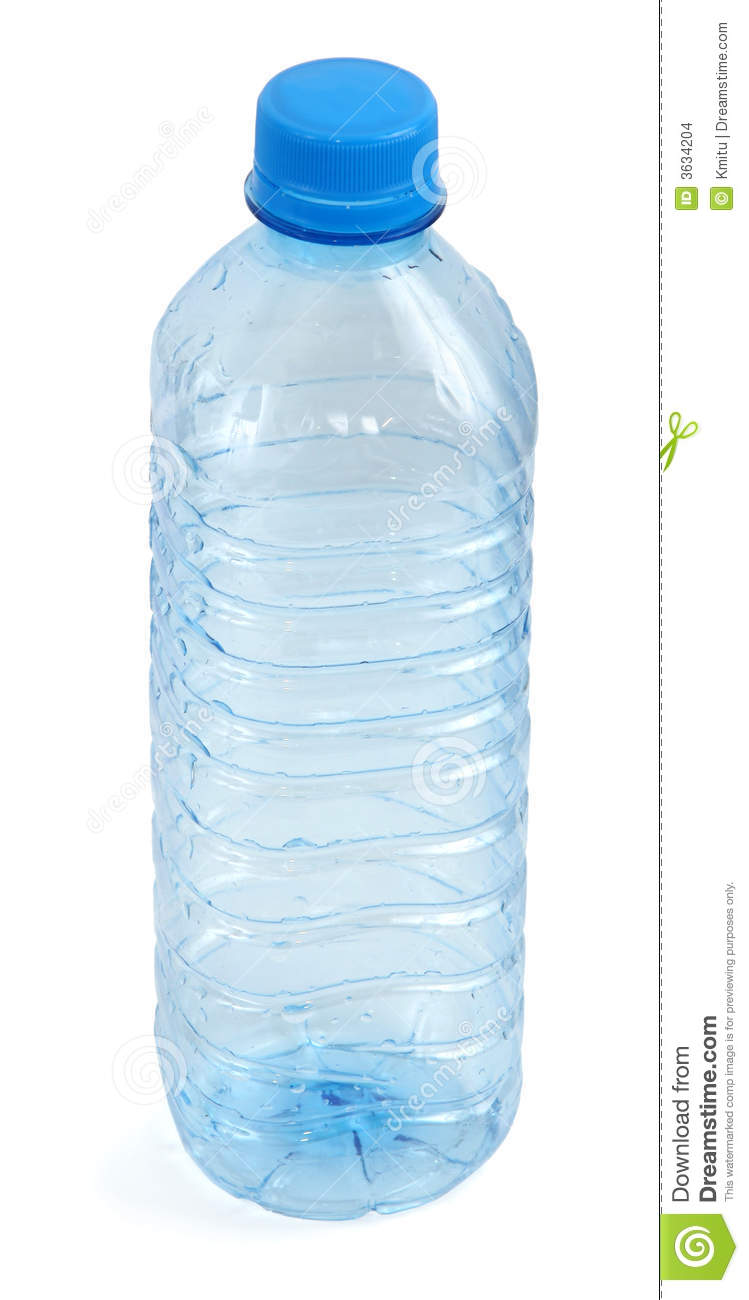emptybottle: (153, 57, 527, 1223)
